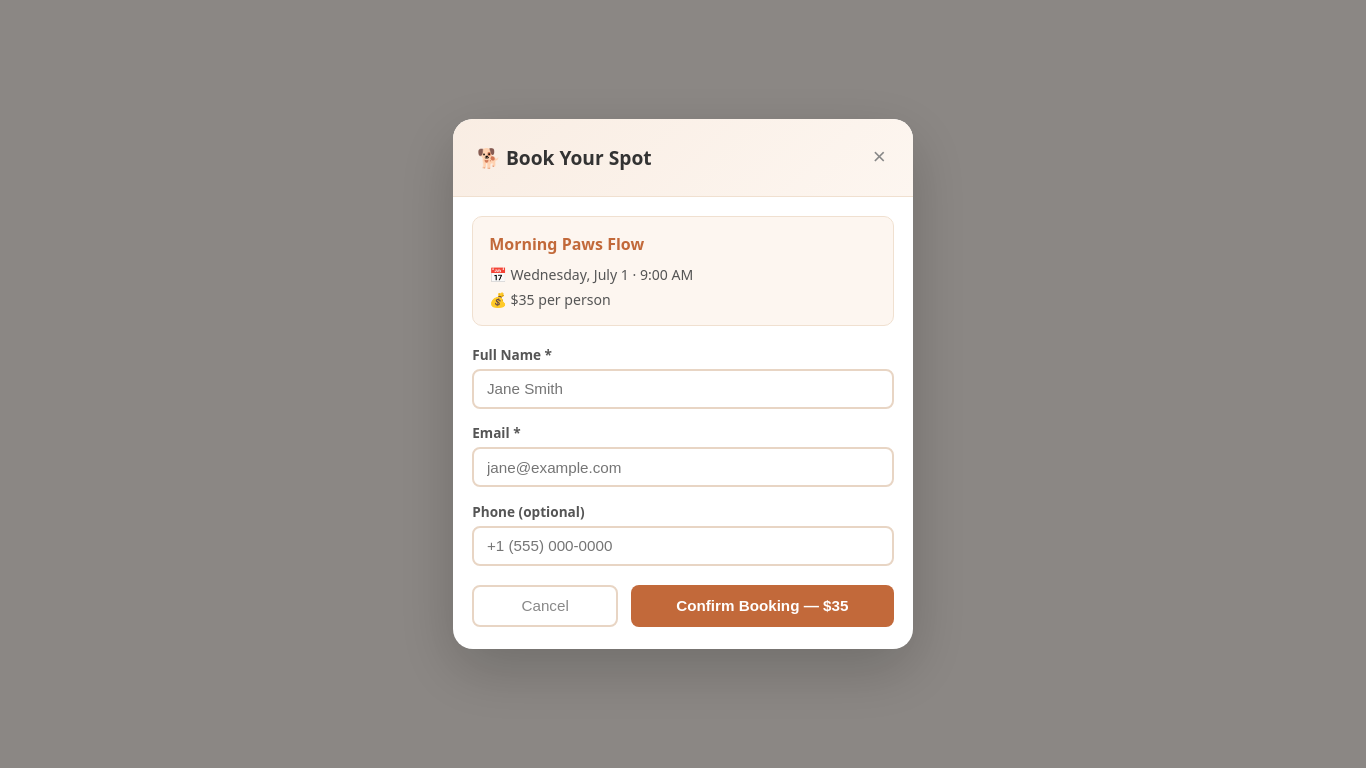
BookingModal › shows name error when name is empty on submit
Click the button "Confirm Booking — $35": click(762, 606) [631,585,894,627]
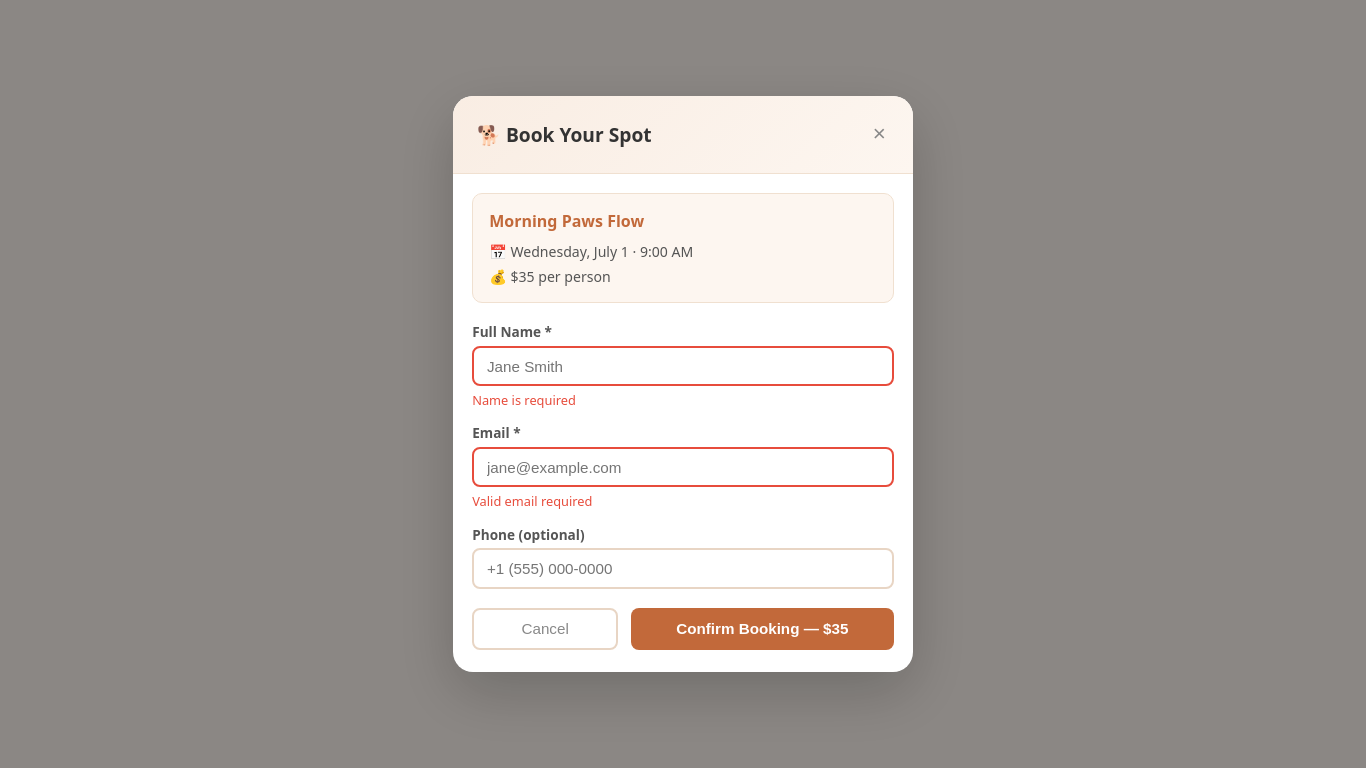
Expected: the text "Name is required" is shown, [472,391,576,409]
